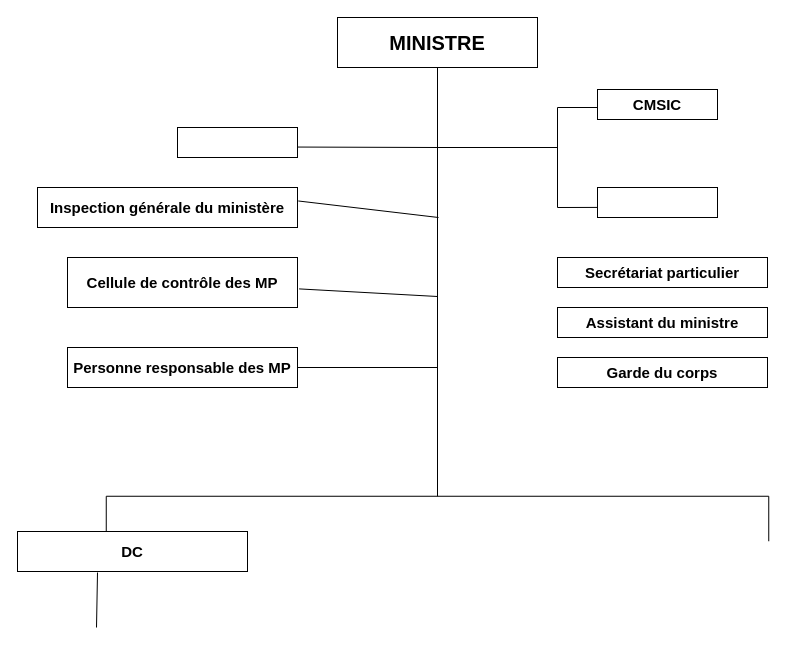
Image size: 787x646. Some labels were removed from this diagram. The shapes that lost their labels are listed below. From the top down, each one's centre as x and y in pixels, then its label:
At point 237,142: "CMAI".
At point 657,202: "C/PIP".
